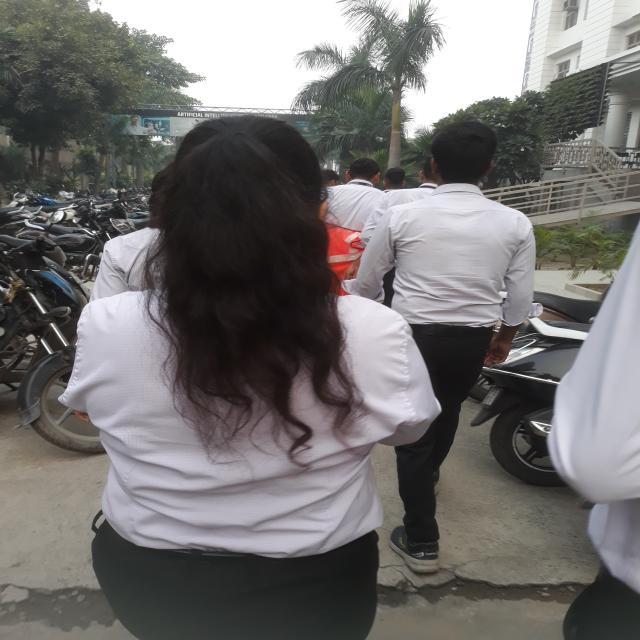unsafe: (73, 102, 400, 638), (383, 118, 524, 580)
